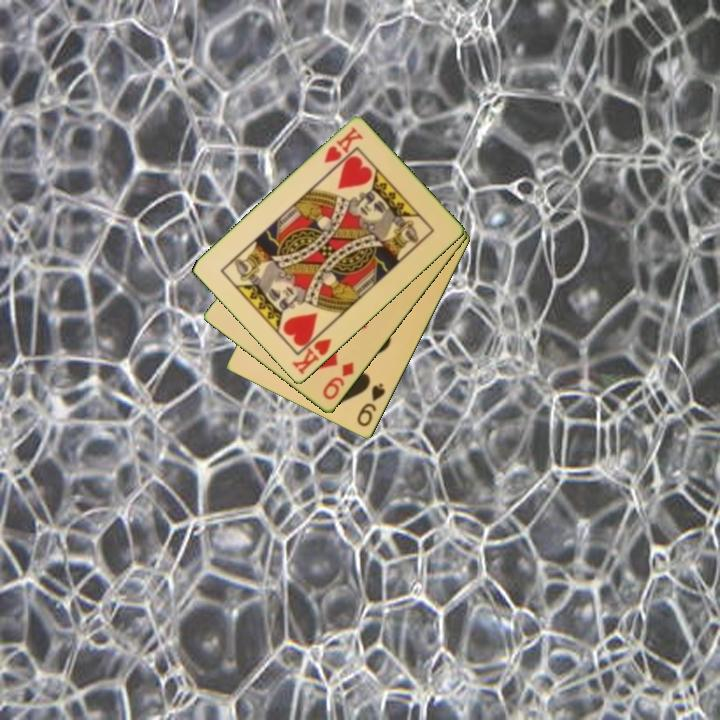9d: (319, 358, 357, 403)
9s: (353, 380, 389, 430)
Kh: (288, 326, 335, 378), (320, 124, 366, 167)
